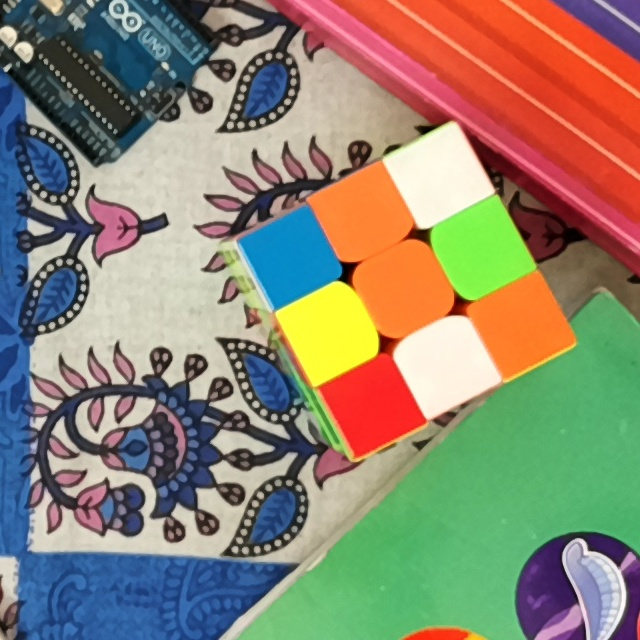tile: (371, 261, 435, 319), (450, 220, 511, 279), (492, 294, 552, 353), (332, 187, 395, 243), (416, 335, 476, 392), (259, 229, 321, 284), (340, 377, 402, 431), (300, 304, 358, 358), (409, 150, 466, 204)
